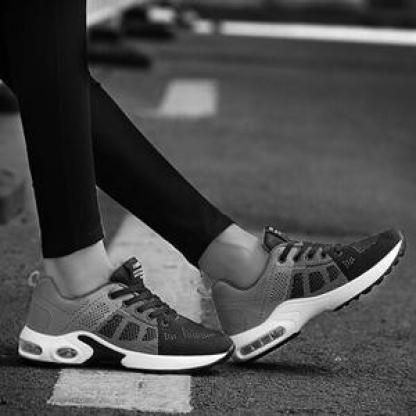ankle: (258, 290, 266, 296), (77, 292, 82, 298)
heel: (27, 324, 31, 328), (237, 328, 240, 331)
left_foot: (230, 225, 406, 362)
pinky: (379, 234, 382, 238), (212, 351, 216, 353)
right_foot: (14, 275, 232, 371)
toe: (393, 238, 398, 243), (215, 331, 220, 335)
